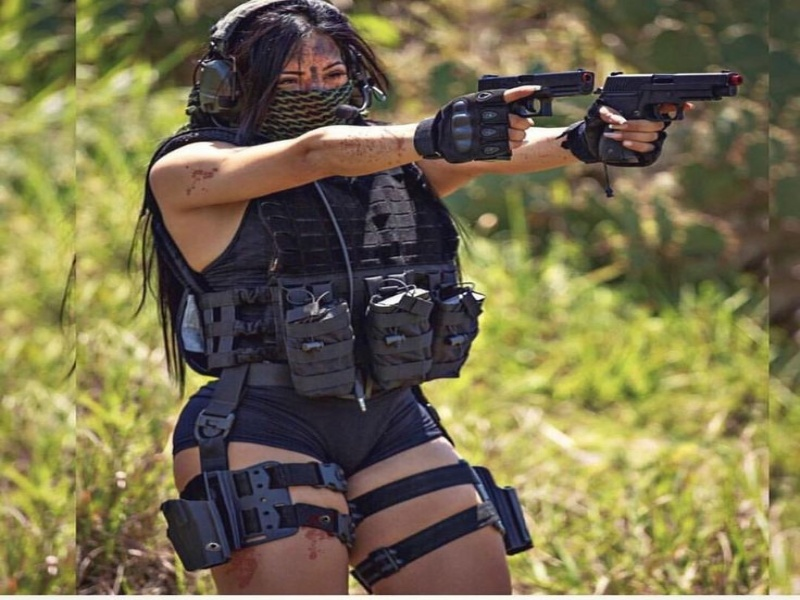person: (144, 1, 692, 595)
weapon: (593, 70, 743, 163), (478, 68, 595, 118)
